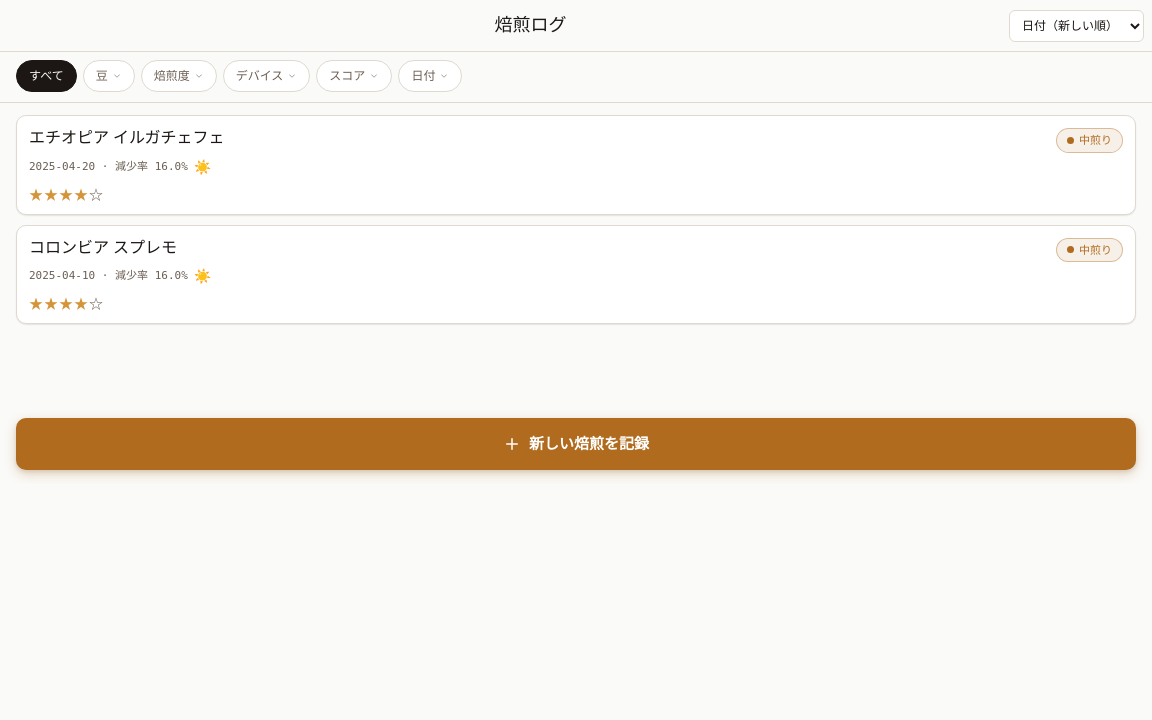
Test: RoastLogListPage › 豆フィルターで特定の豆のログだけ表示される
This screenshot has width=1152, height=720.
Expected: the number of buttons "エチオピア イルガチェフェ 中煎り 2025-04-20 · 減少率 16.0% ☀️ ★ ★ ★ ★ ☆" is 2, [16,115,1136,214]; [16,224,1136,324]
Click the button "豆".
click(109, 76)  # box [83,60,135,92]
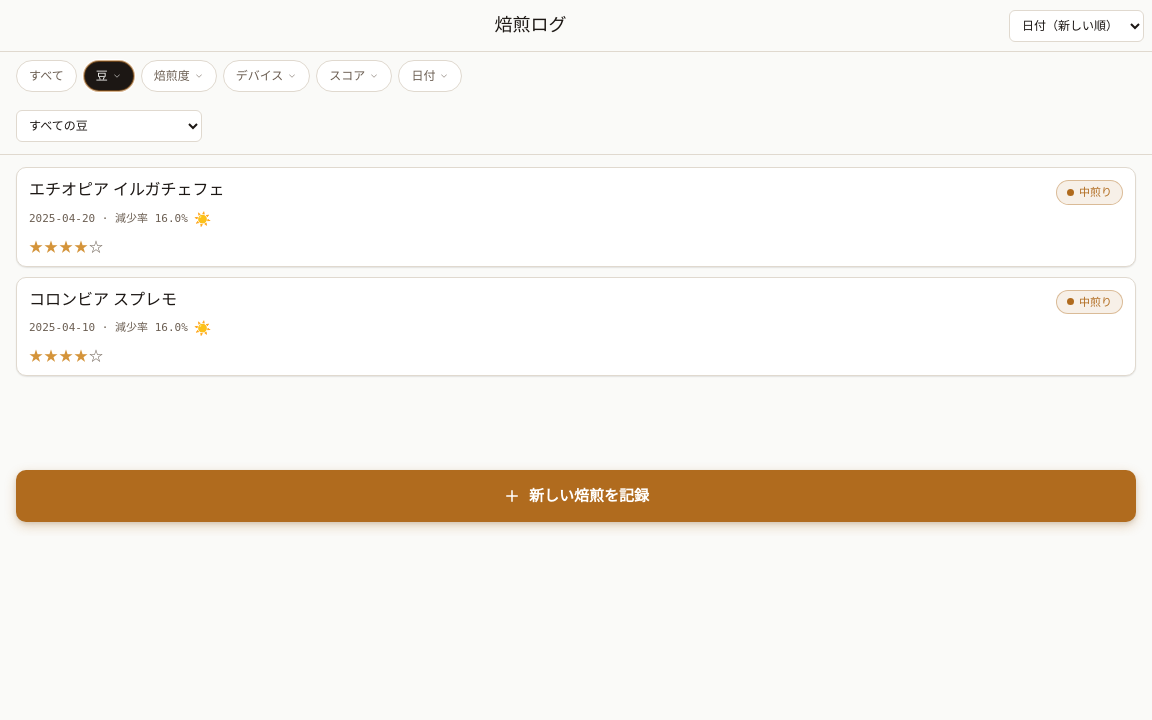
Select "エチオピア イルガチェフェ" in the dropdown named "豆で絞り込み" at [109, 126], box [16,110,202,142]
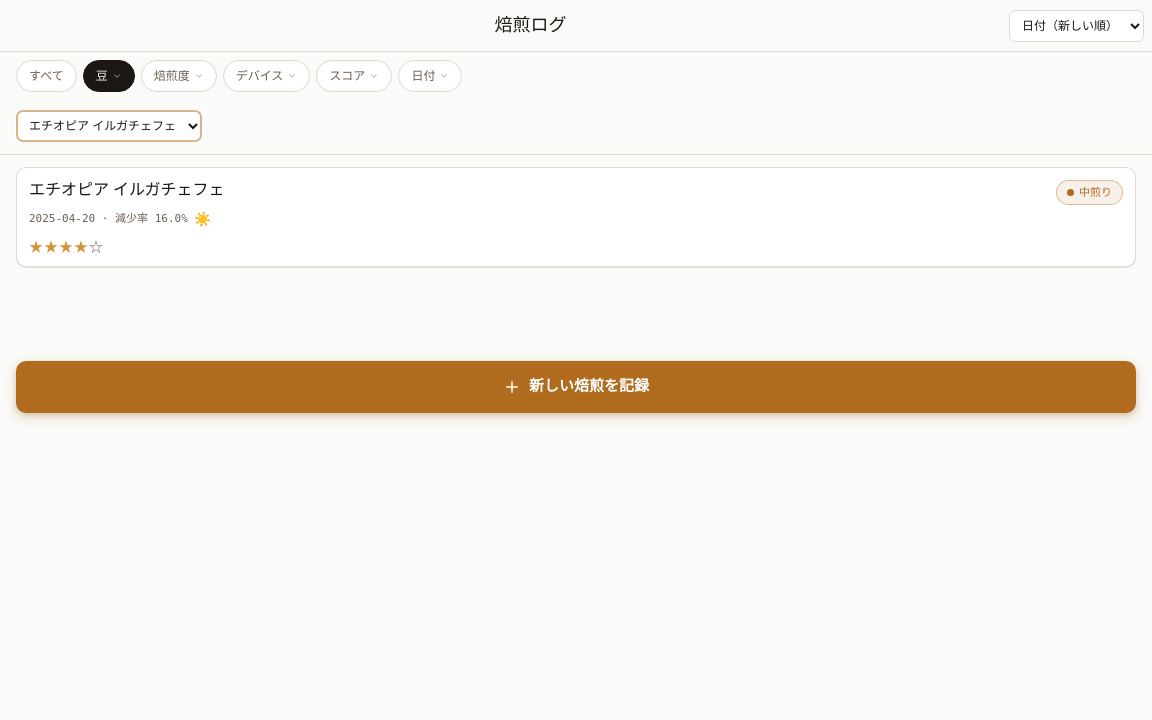
Expected: the button "エチオピア イルガチェフェ 中煎り 2025-04-20 · 減少率 16.0% ☀️ ★ ★ ★ ★ ☆" is shown, [16,167,1136,266]
Expected: the button "コロンビア スプレモ" is gone
